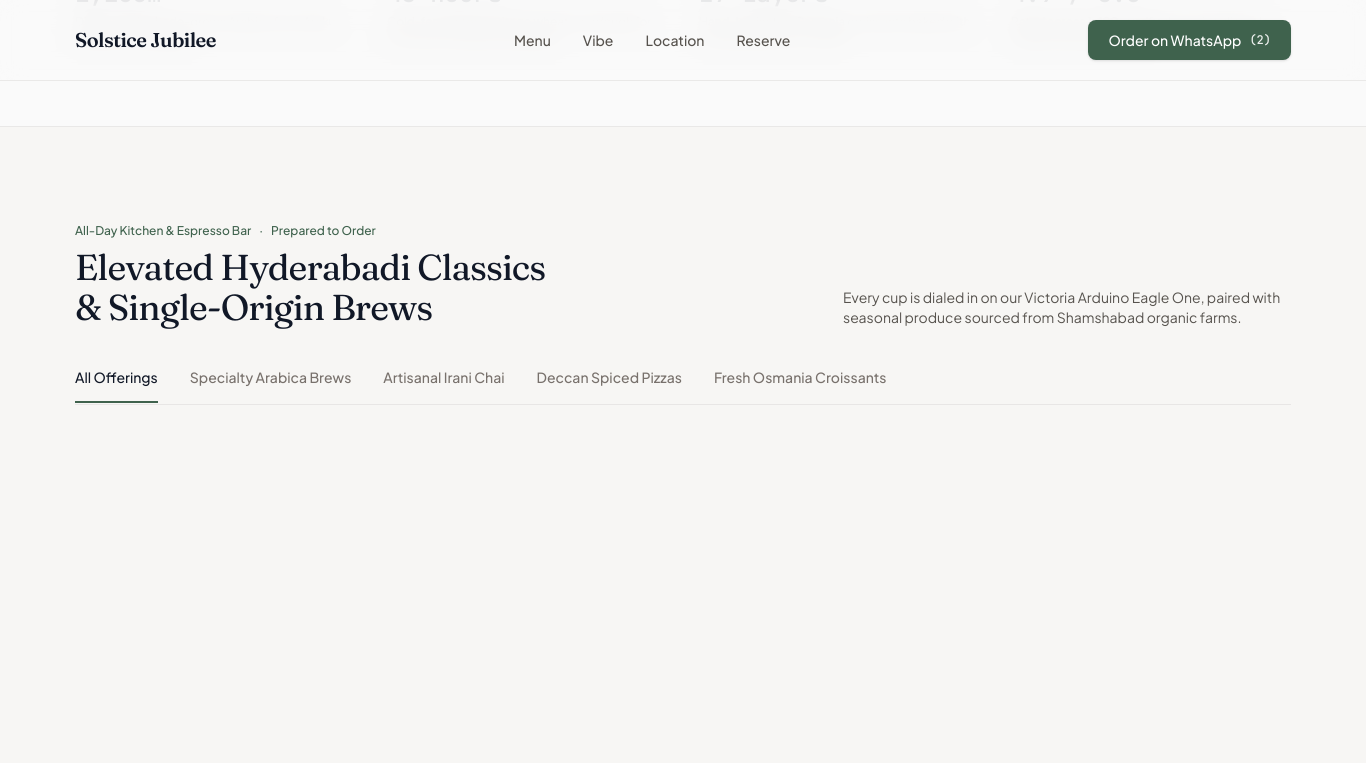
Test: Solstice cafe demo › lists all 12 menu items, and the filters narrow the grid
This screenshot has width=1366, height=763.
(page scrolled)
Step 1. Click the tab "Artisanal Irani Chai" → (444, 385), box [383,367,505,403]
(page scrolled)
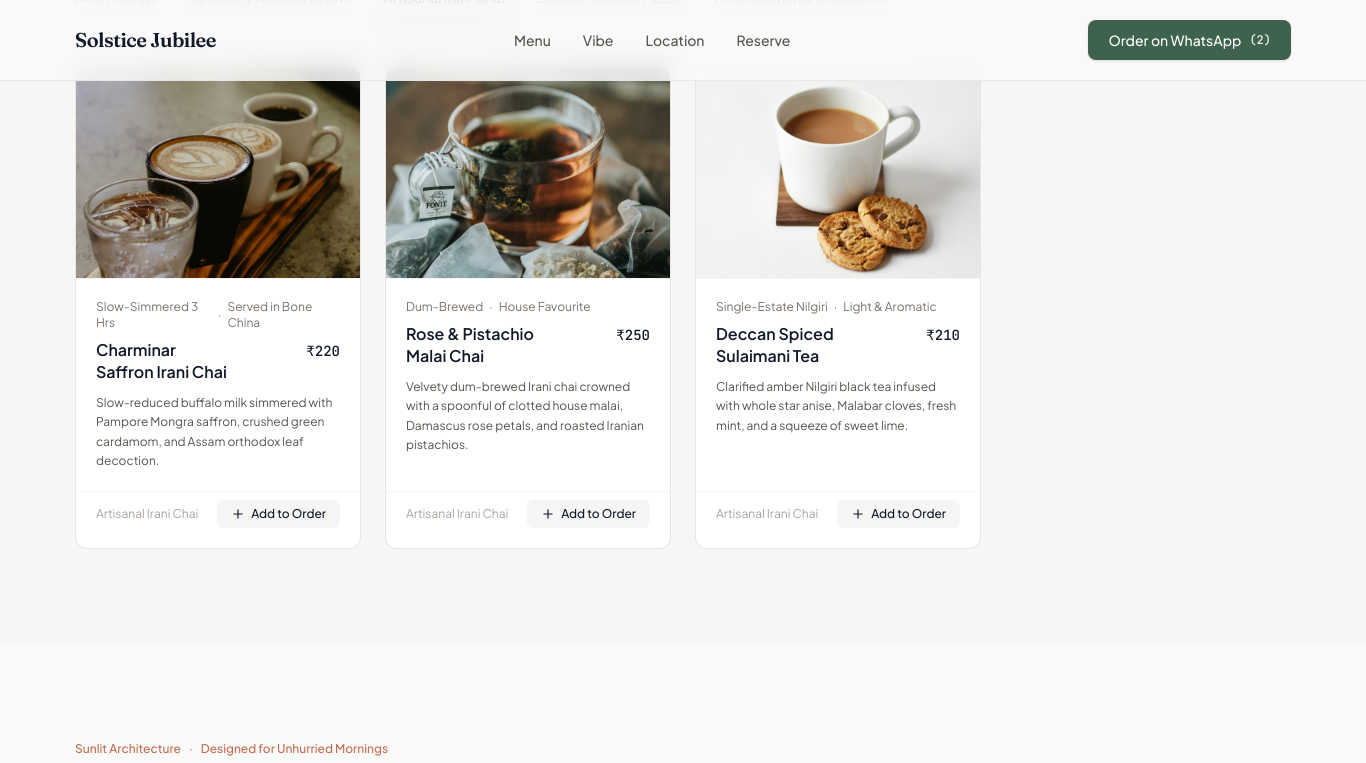
Result: the heading "Charminar Saffron Irani Chai" is shown at [96,339,227,382]
